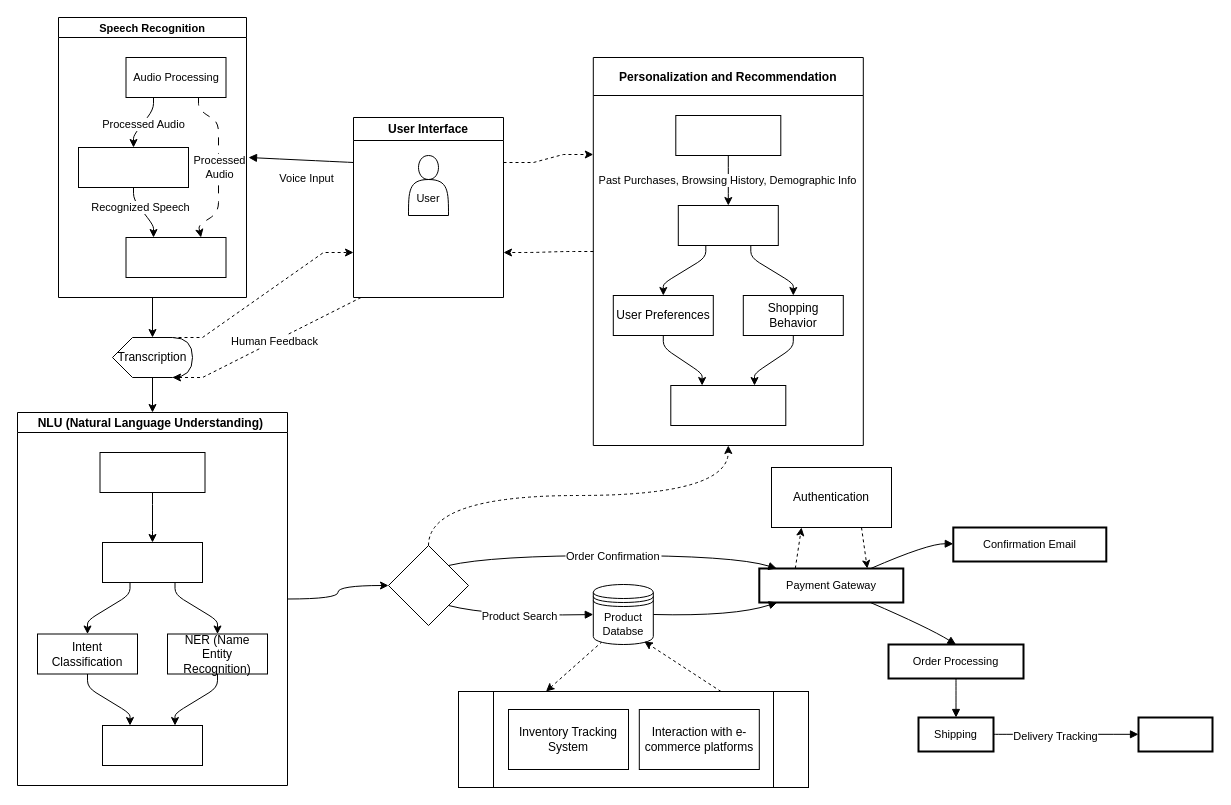
Image size: 1231x805. Some labels were removed from this diagram. The centre of each missing label's shape, as x and y in pixels:
"Delivery" belongs at point 1175,734.
"Entity Extraction" belongs at point 152,562.
"Intent Recognition" belongs at point 152,472.
"Language Models" belongs at point 175,257.
"Machine Learning Alogrithms" belongs at point 727,225.
"Machine Learning Models" belongs at point 152,745.
"Personalized Recommendations" belongs at point 728,405.
"Query" belongs at point 428,585.
"Speech Recognition Algorithms" belongs at point 133,167.
"User Data" belongs at point 728,135.
